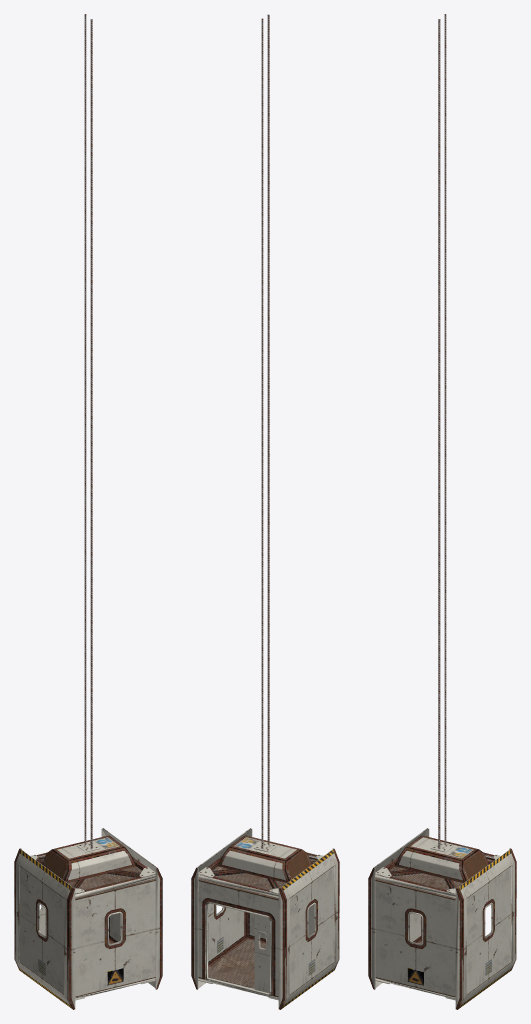
The model's file is rocket_crane_lift.glb.
3 renders of one model, left to right at view 1: azimuth 30°, elevation 25°; view 2: azimuth 150°, elevation 25°; view 3: azimuth 330°, elevation 25°, orthographic.
Visible parts, largest first — view 1: rocket_crane_lift_LOD0; view 2: rocket_crane_lift_LOD0; view 3: rocket_crane_lift_LOD0.
Part boxes in pixels (bbox=[...]): rocket_crane_lift_LOD0: bbox=[14, 14, 162, 1009]; rocket_crane_lift_LOD0: bbox=[191, 14, 339, 1009]; rocket_crane_lift_LOD0: bbox=[368, 14, 516, 1009].
Size of the model in its own units: 2.96 by 28.85 by 2.96.
7 materials, 7 textured.
